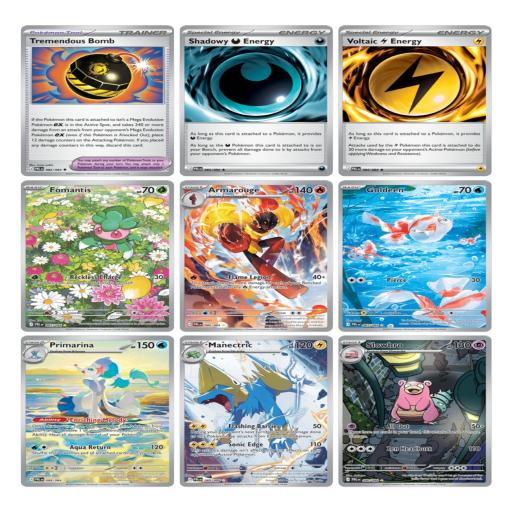card: (180, 335, 334, 487), (180, 24, 333, 176), (21, 335, 174, 487), (339, 336, 492, 488), (21, 25, 174, 176), (339, 25, 492, 176), (21, 181, 174, 332), (180, 181, 333, 332), (338, 181, 491, 332)
